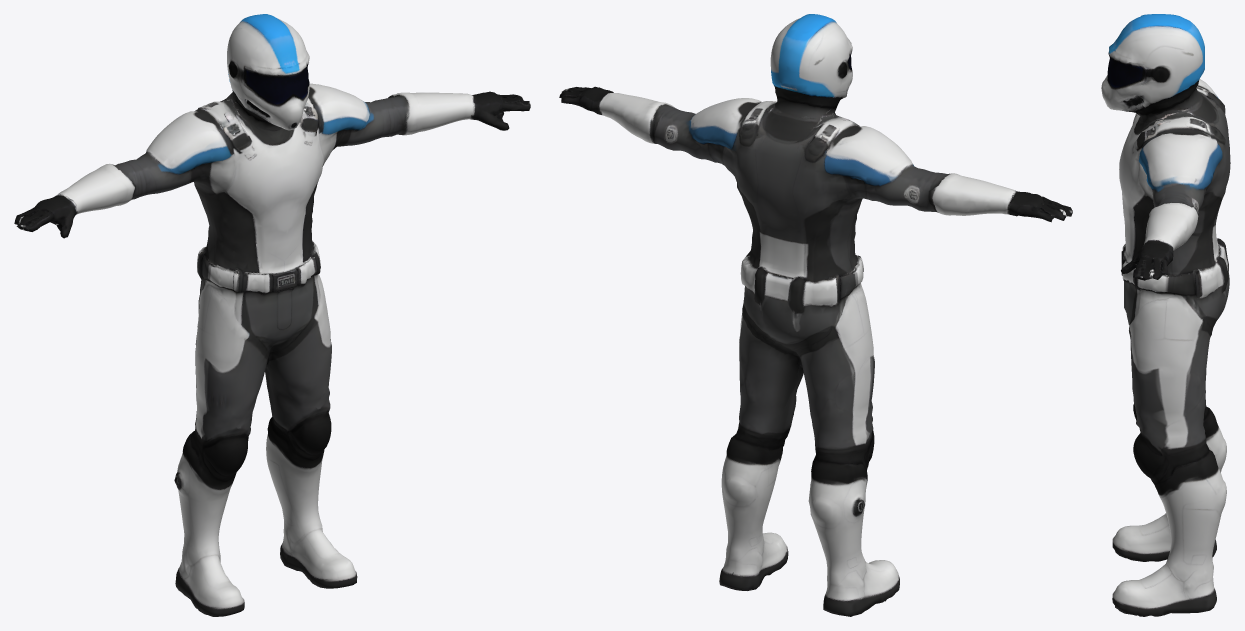
The model's file is Player.fbx.
The picture shows the model from 3 angles, left to right: view 1: azimuth 30°, elevation 25°; view 2: azimuth 150°, elevation 25°; view 3: azimuth 270°, elevation 25°; orthographic projection.
Parts seen in each view (by area): view 1: LowVert; view 2: LowVert; view 3: LowVert.
Part boxes in pixels (x1=…): LowVert: x1=14, y1=14, x2=530, y2=616; LowVert: x1=559, y1=14, x2=1072, y2=616; LowVert: x1=1101, y1=14, x2=1230, y2=616.
Bounding box in the file's own units: 180 × 39.45 × 190.
1 material, 1 textured.
